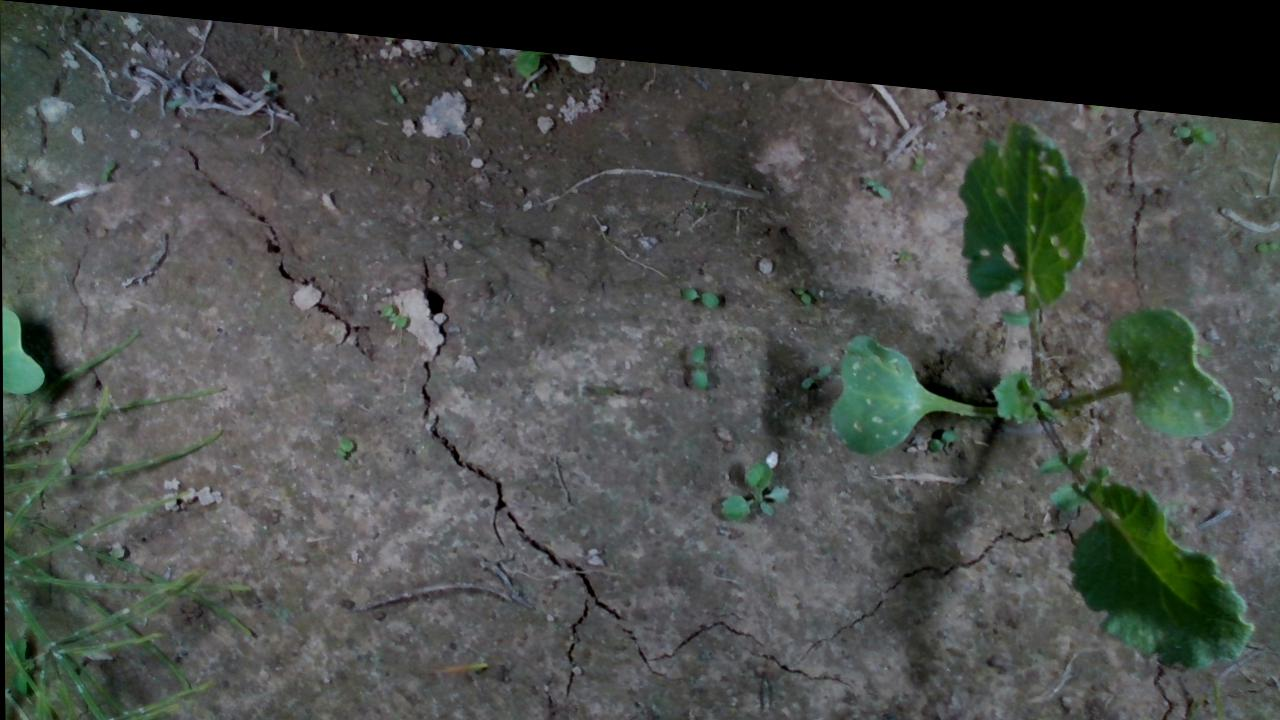weed: (716, 441, 791, 512), (1168, 93, 1218, 124), (922, 404, 958, 436), (686, 328, 709, 378), (677, 268, 719, 293), (798, 343, 832, 373), (860, 156, 891, 182), (378, 293, 407, 320), (330, 427, 353, 451), (787, 268, 811, 289), (1253, 210, 1279, 229), (98, 155, 116, 181), (386, 71, 403, 97)
